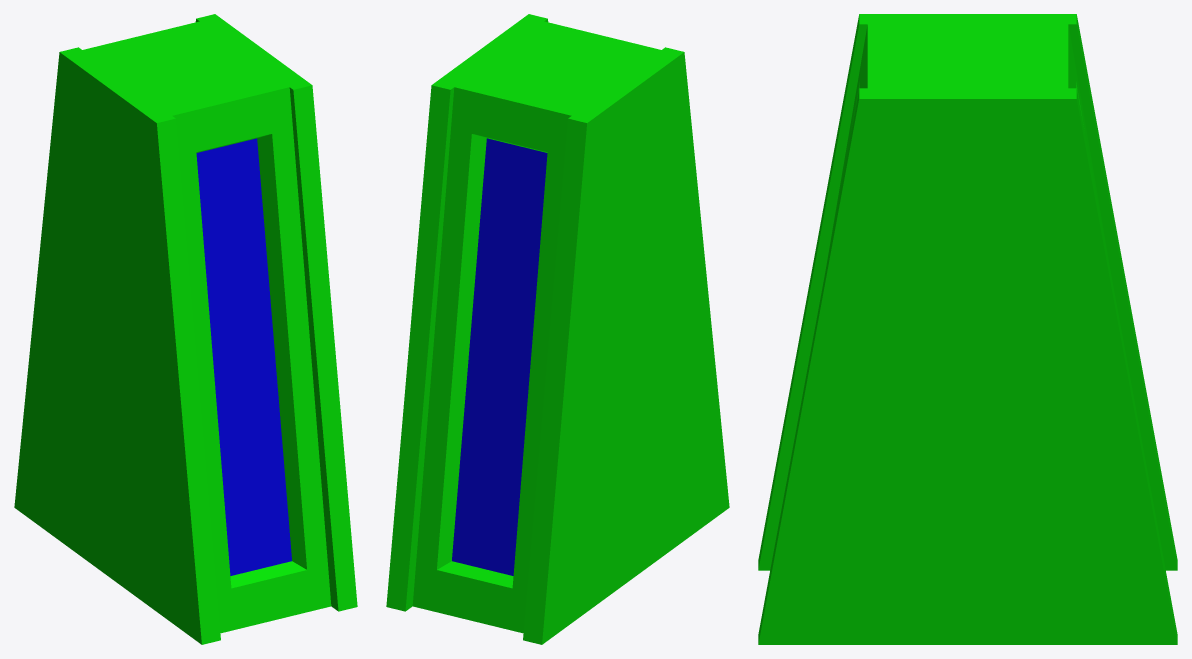
Rendered from SM_WallSeperator.fbx.
The picture shows the model from 3 angles, left to right: view 1: azimuth 30°, elevation 25°; view 2: azimuth 150°, elevation 25°; view 3: azimuth 270°, elevation 25°; orthographic projection. The views are drawn at different scales.
Parts seen in each view (by area): view 1: pCube3; view 2: pCube3; view 3: pCube3.
Part boxes in pixels (x1,y1,x2,y2): pCube3: (14, 14, 357, 644); pCube3: (386, 14, 729, 644); pCube3: (758, 14, 1177, 644).
Bounding box in the file's own units: 1 × 3 × 2.09.
